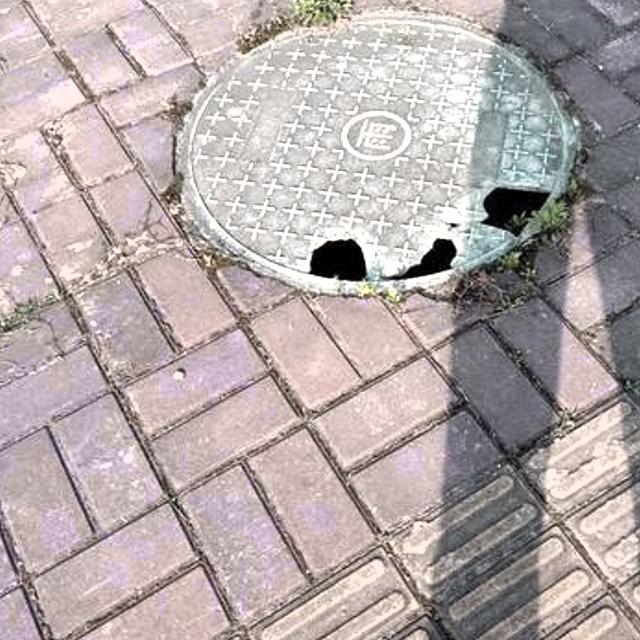broke: (154, 0, 607, 310)
